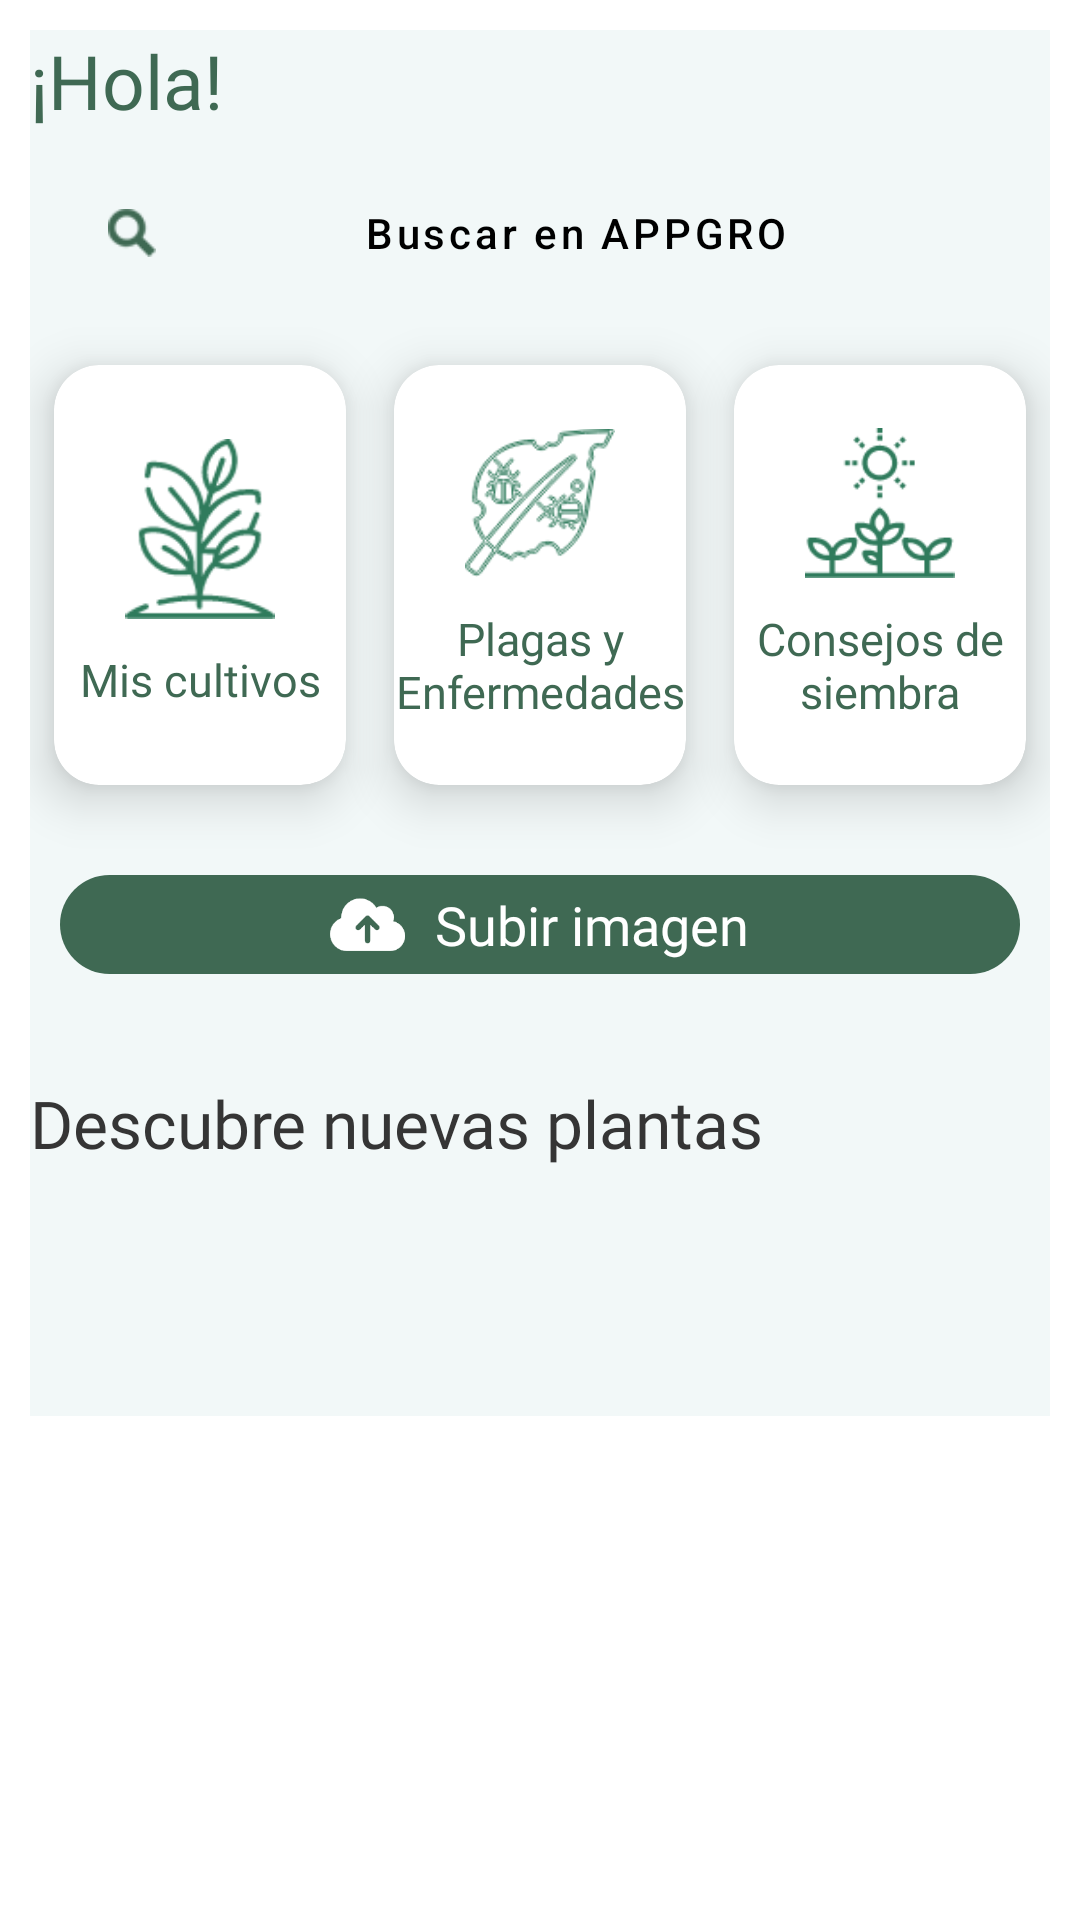

Icon click points for this 1080 × 1920 phone screenshot, format point (x, y):
plnata: point (200, 529)
upload: point (367, 924)
